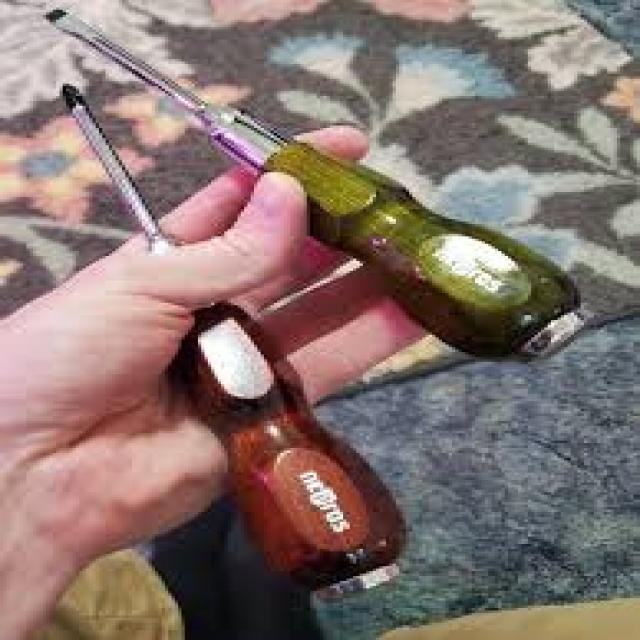screwdriver: (42, 5, 590, 367), (59, 80, 409, 604)
